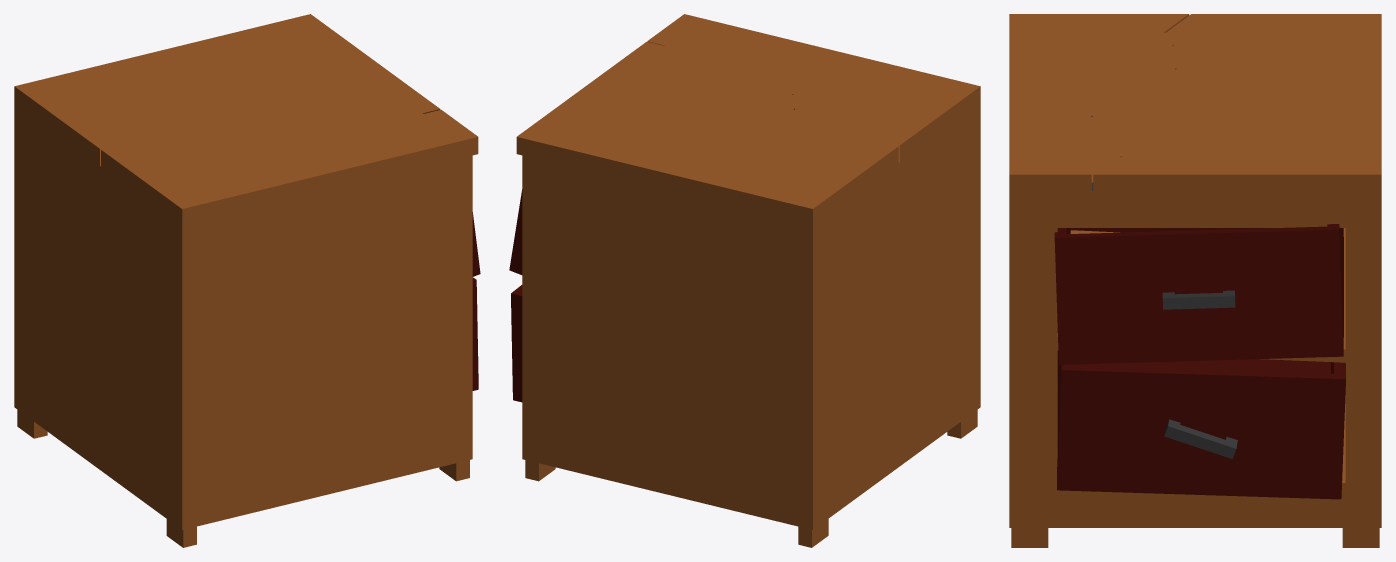
File: CabinetBroken1.fbx
3 renders of one model, left to right at view 1: azimuth 30°, elevation 25°; view 2: azimuth 150°, elevation 25°; view 3: azimuth 270°, elevation 25°, orthographic. The views are drawn at different scales.
Parts seen in each view (by area): view 1: CabinetBroken; view 2: CabinetBroken; view 3: CabinetBroken.
Boxes of the visible parts, bbox=[...] form: CabinetBroken: bbox=[14, 14, 480, 547]; CabinetBroken: bbox=[509, 14, 980, 547]; CabinetBroken: bbox=[1009, 14, 1381, 547].
Size of the model in its own units: 2.31 by 2.24 by 2.
